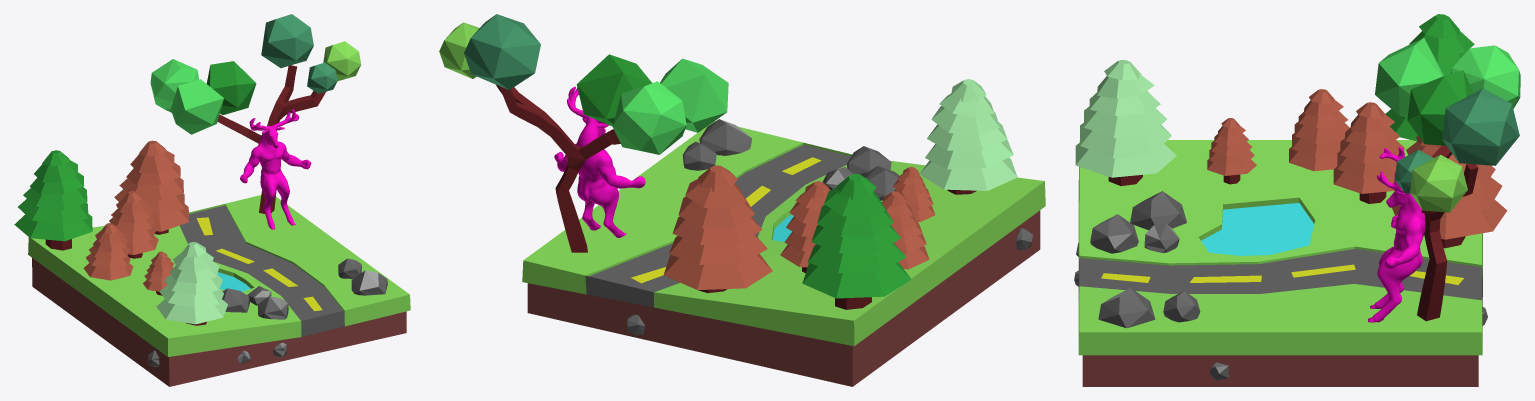
Rendered from LES.fbx.
The picture shows the model from 3 angles, left to right: view 1: azimuth 30°, elevation 25°; view 2: azimuth 150°, elevation 25°; view 3: azimuth 270°, elevation 25°; orthographic projection. The views are drawn at different scales.
Visible parts, largest first — view 1: Cube.001, Cylinder.001, Cylinder.007, Cylinder.009, 15294_HybridCreature_DeerBuck_V2_NEW, Icosphere.003, Icosphere.002, Cylinder.019, Cylinder.008, Cube.002, Icosphere.001, Icosphere (+7 smaller); view 2: Cube.001, Cylinder.009, Cylinder.001, Cylinder.007, Icosphere.003, Icosphere, 15294_HybridCreature_DeerBuck_V2_NEW, Cube.002, Icosphere.002, Icosphere.001, Cylinder.019, Cylinder.008 (+6 smaller); view 3: Cube.001, Cylinder.007, Cylinder.019, Icosphere.003, 15294_HybridCreature_DeerBuck_V2_NEW, Cylinder.008, Cylinder.009, Icosphere.002, Icosphere.001, Cube.002, Icosphere, Icosphere.004 (+8 smaller).
Boxes of the visible parts, x1,y1,x2,y2 form: Cube.001: [28, 195, 410, 386]; Cylinder.001: [14, 150, 92, 241]; Cylinder.007: [156, 242, 227, 325]; Cylinder.009: [111, 140, 189, 231]; 15294_HybridCreature_DeerBuck_V2_NEW: [240, 109, 311, 229]; Icosphere.003: [261, 14, 313, 67]; Icosphere.002: [171, 79, 223, 134]; Cylinder.019: [109, 191, 158, 258]; Cylinder.008: [83, 223, 133, 280]; Cube.002: [217, 65, 325, 213]; Icosphere.001: [206, 61, 256, 115]; Icosphere: [150, 59, 198, 112]; Cube.001: [522, 121, 1045, 386]; Cylinder.009: [664, 165, 772, 289]; Cylinder.001: [802, 173, 911, 298]; Cylinder.007: [920, 79, 1017, 194]; Icosphere.003: [464, 14, 540, 90]; Icosphere: [612, 81, 686, 154]; 15294_HybridCreature_DeerBuck_V2_NEW: [554, 86, 645, 237]; Cube.002: [496, 85, 620, 252]; Icosphere.002: [660, 58, 728, 132]; Icosphere.001: [576, 54, 651, 126]; Cylinder.019: [780, 181, 830, 272]; Cylinder.008: [881, 191, 929, 269]; Cube.001: [1078, 140, 1482, 386]; Cylinder.007: [1075, 60, 1176, 185]; Cylinder.019: [1333, 102, 1404, 203]; Icosphere.003: [1442, 88, 1519, 165]; 15294_HybridCreature_DeerBuck_V2_NEW: [1368, 147, 1425, 322]; Cylinder.008: [1289, 89, 1349, 171]; Cylinder.009: [1392, 136, 1507, 239]; Icosphere.002: [1375, 38, 1444, 115]; Icosphere.001: [1407, 70, 1473, 145]; Cube.002: [1417, 145, 1478, 321]; Icosphere: [1451, 45, 1520, 108]; Icosphere.004: [1410, 154, 1467, 212].
Size of the model in its own units: 542 by 331 by 435.
